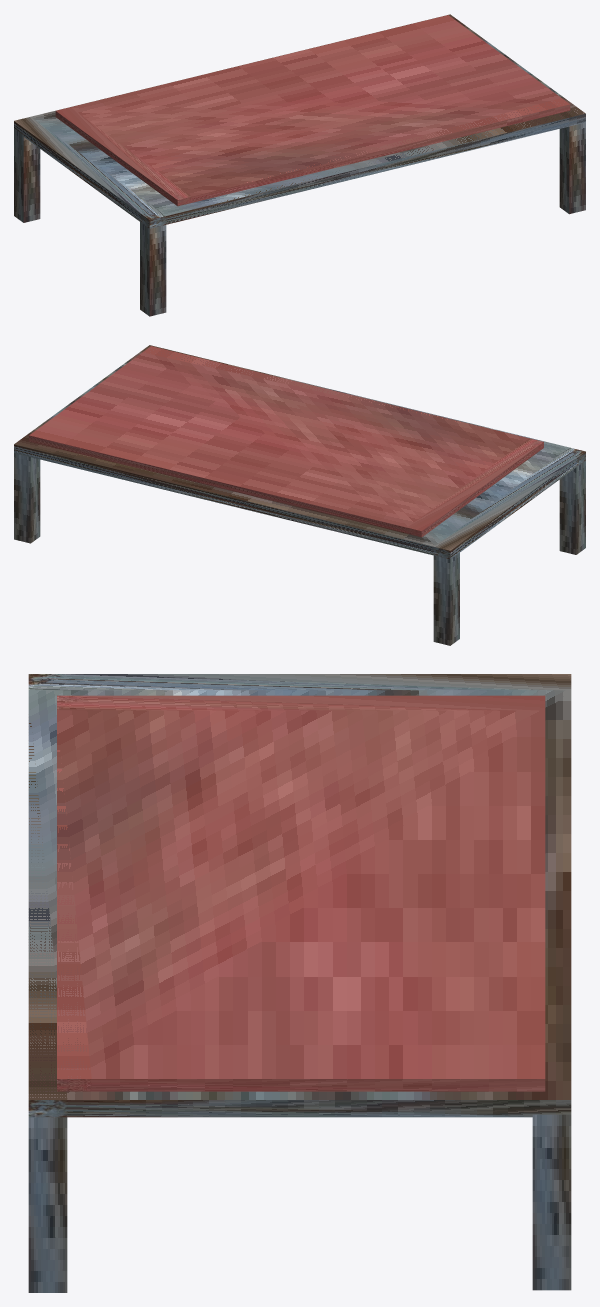
File: bed.glb
3 renders of one model, top to bottom at view 1: azimuth 30°, elevation 25°; view 2: azimuth 150°, elevation 25°; view 3: azimuth 270°, elevation 25°, orthographic. The views are drawn at different scales.
Parts seen in each view (by area): view 1: Cube.005, Cube.004, Cube, Cube.002, Cube.001; view 2: Cube.005, Cube.004, Cube.001, Cube.003, Cube; view 3: Cube.005, Cube.004, Cube.003, Cube.002.
Boxes of the visible parts, bbox=[...] form: Cube.005: bbox=[55, 15, 570, 206]; Cube.004: bbox=[14, 14, 585, 228]; Cube: bbox=[140, 222, 166, 316]; Cube.002: bbox=[559, 122, 585, 214]; Cube.001: bbox=[14, 128, 40, 222]; Cube.005: bbox=[29, 346, 543, 537]; Cube.004: bbox=[14, 345, 585, 559]; Cube.001: bbox=[433, 553, 459, 645]; Cube.003: bbox=[14, 453, 40, 543]; Cube: bbox=[559, 460, 585, 554]; Cube.005: bbox=[57, 695, 545, 1091]; Cube.004: bbox=[28, 674, 571, 1117]; Cube.003: bbox=[532, 1114, 571, 1290]; Cube.002: bbox=[28, 1117, 67, 1292].
Bounding box in the file's own units: 5.2 × 1.17 × 2.8.
2 materials, 2 textured.
